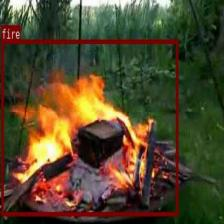fire: (1, 39, 178, 215)
